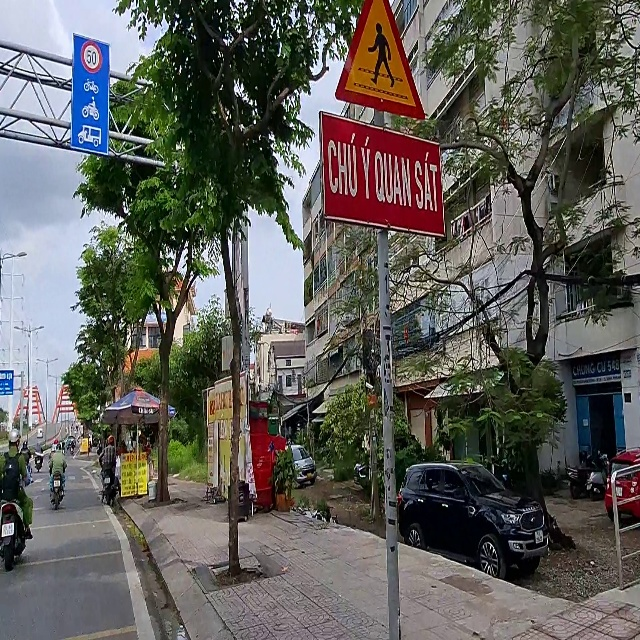nguoi qua duong: (326, 0, 436, 131)
toc do toi da 60km/h: (75, 37, 114, 77)
